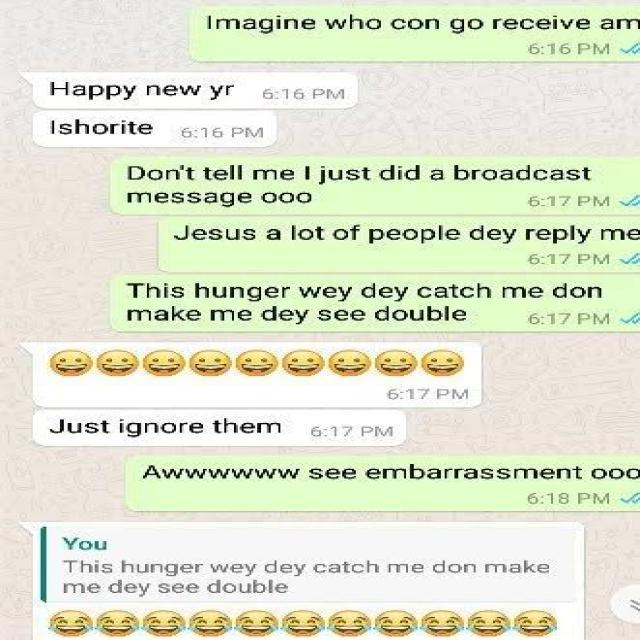scam: (32, 522, 580, 640), (24, 341, 486, 408), (33, 408, 412, 447), (27, 72, 353, 109), (31, 114, 273, 150)
